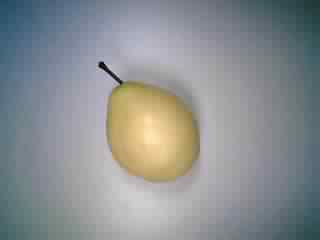pear: (85, 55, 210, 188)
